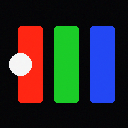2 circle: (9, 53, 31, 75)
